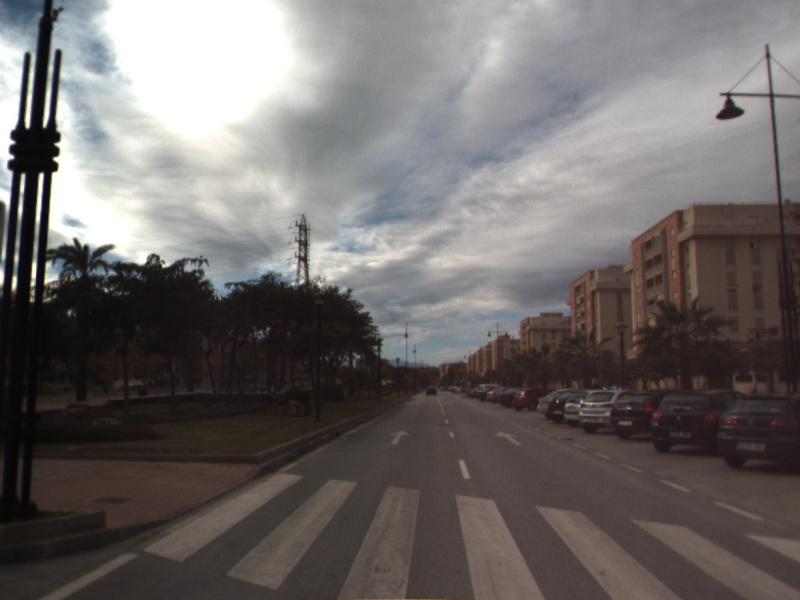STRAIGHT: (493, 429, 526, 448), (388, 428, 412, 446)
